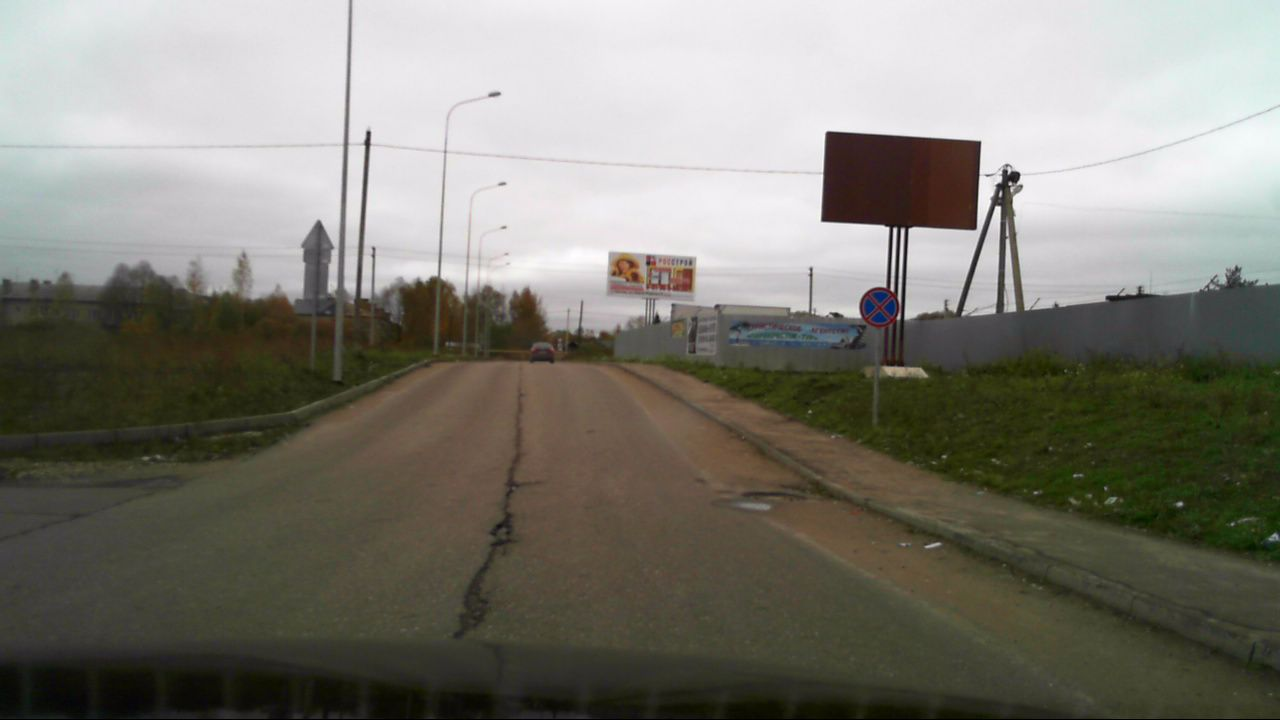No Parking: (859, 286, 899, 328)
